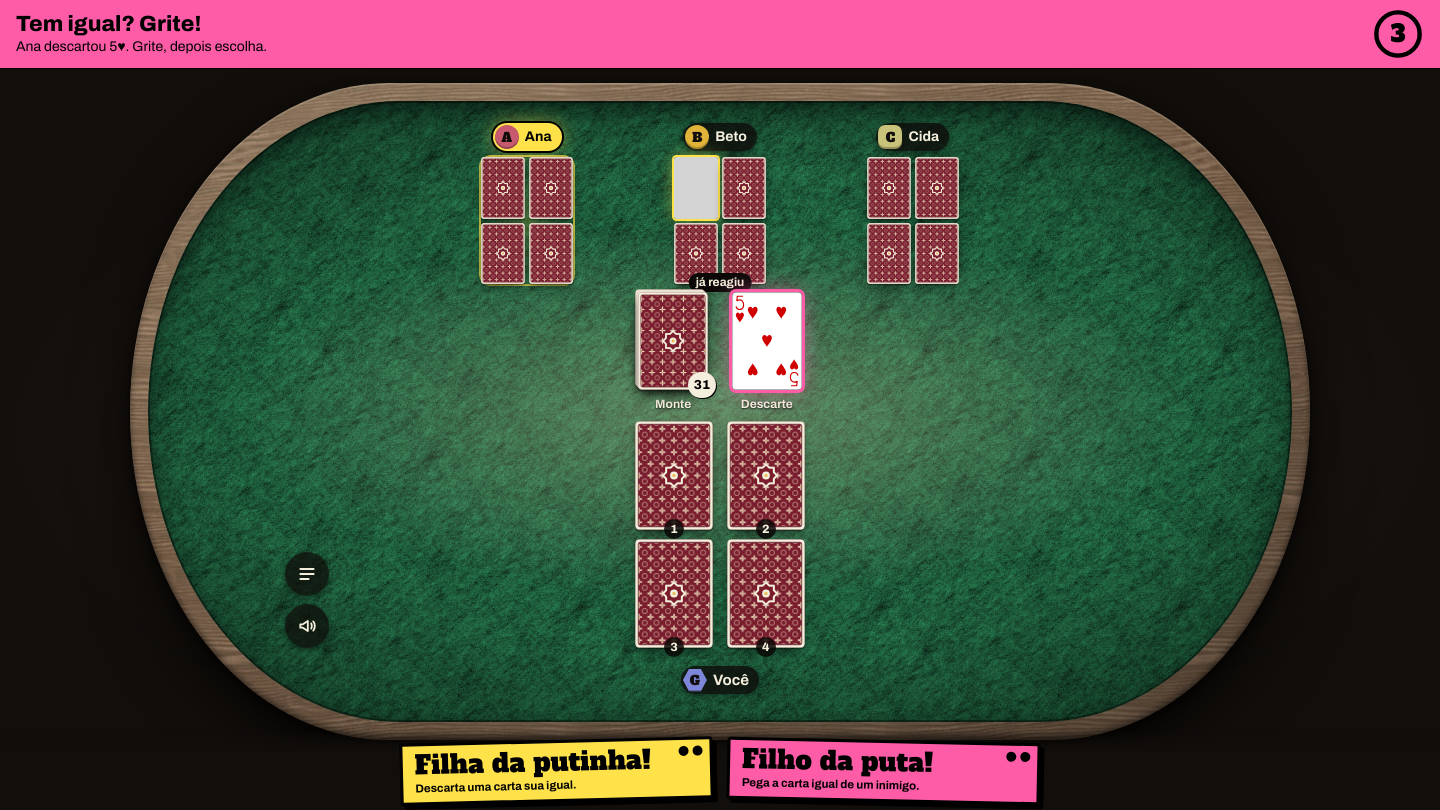
Table › a shout claims the window first (step 1); nothing else is sent
Click the button "Filho da puta!" at x=884, y=771, box [726, 737, 1041, 805]
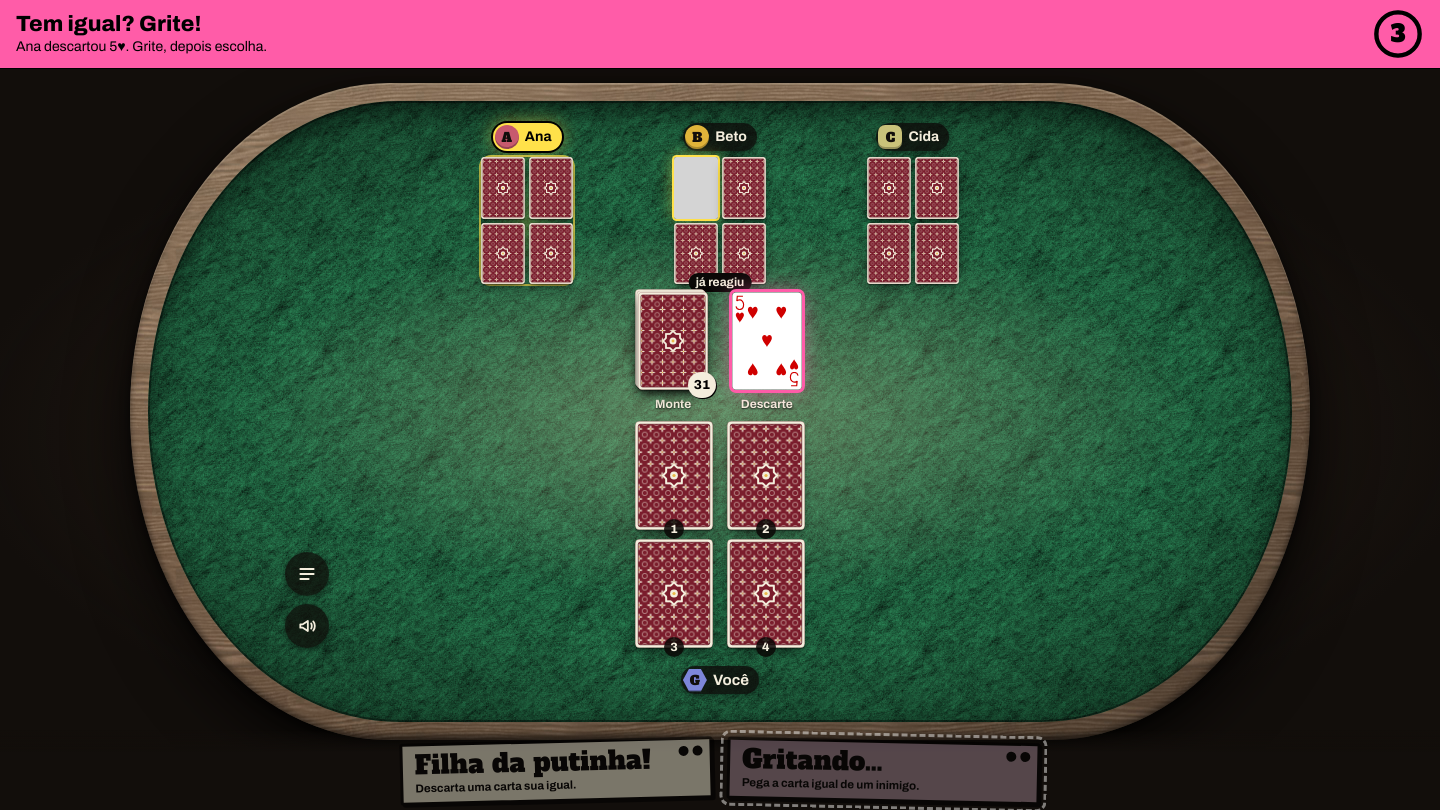
Expected: the button "Gritando" is disabled, [726, 737, 1041, 805]
